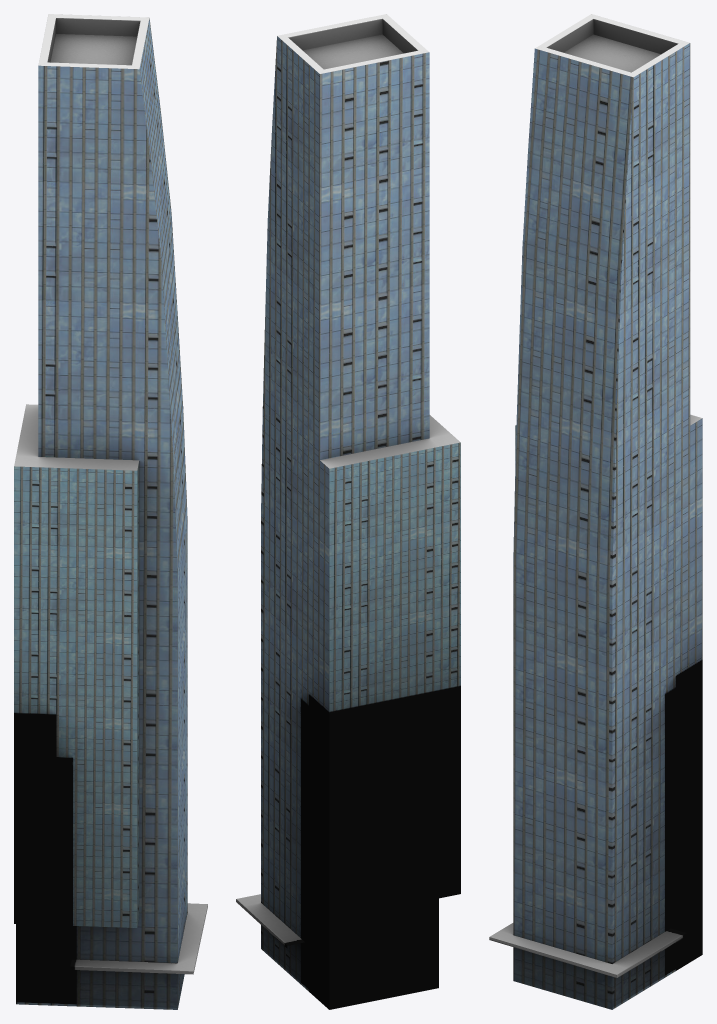
Rendered from lzmwl.gltf.
The picture shows the model from 3 angles, left to right: view 1: azimuth 30°, elevation 25°; view 2: azimuth 150°, elevation 25°; view 3: azimuth 270°, elevation 25°; orthographic projection. The views are drawn at different scales.
Parts seen in each view (by area): view 1: group2 group1 polySurface1, pCube15 group2 group1; view 2: group2 group1 polySurface1, pCube15 group2 group1; view 3: group2 group1 polySurface1, pCube15 group2 group1.
Boxes of the visible parts, box(x1,y1,x2,y2) form: group2 group1 polySurface1: box(14, 14, 187, 1009); pCube15 group2 group1: box(70, 903, 207, 974); group2 group1 polySurface1: box(261, 14, 460, 1009); pCube15 group2 group1: box(236, 894, 304, 948); group2 group1 polySurface1: box(513, 14, 702, 1009); pCube15 group2 group1: box(489, 923, 686, 977).
Bounding box in the file's own units: 3.15 × 13.42 × 2.82.
1 material, 1 textured.
